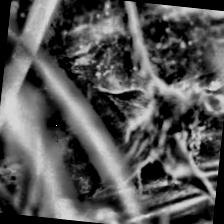Gray Mold: (84, 0, 224, 215)
